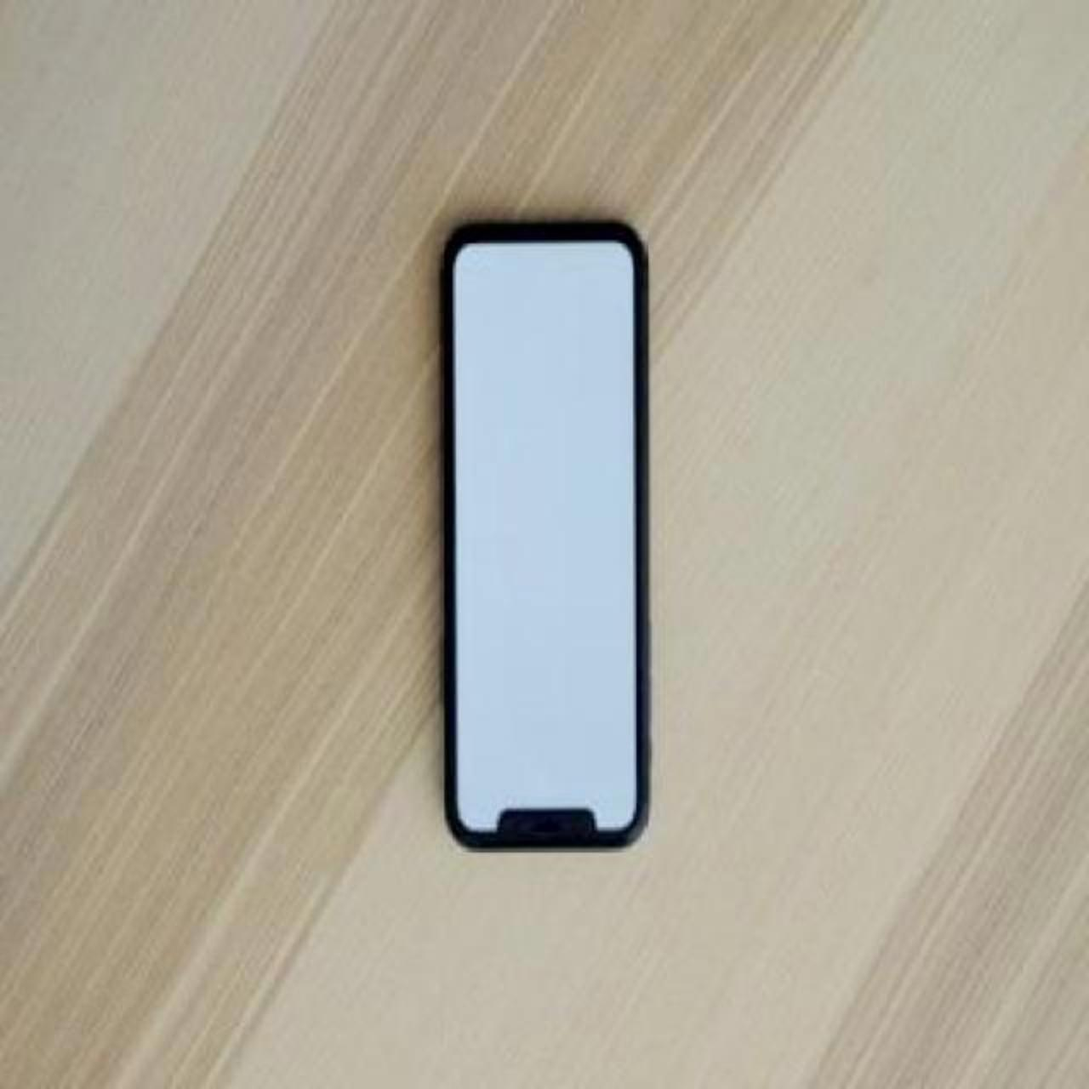phone: (436, 213, 650, 859)
